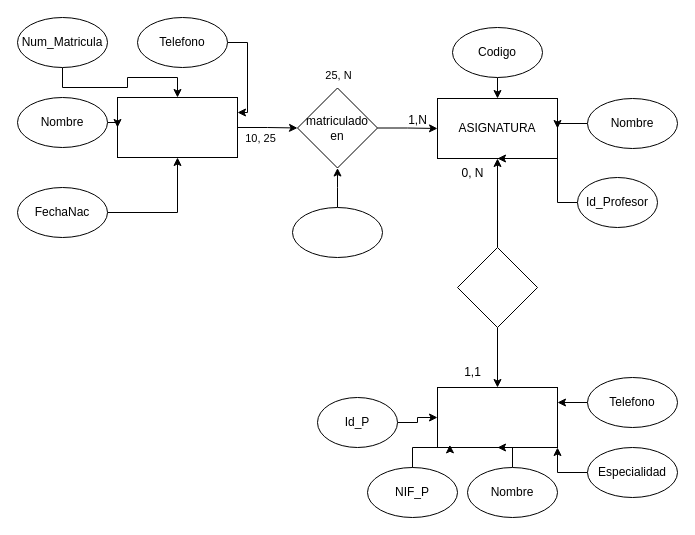
This 695x535 diagram has some shape labels left out. Here are the shapes that lost their labels. From the top down, the centre of each, then its label:
At [177,127]: "ALUMNO".
At [337,232]: "Curso".
At [497,287]: "imparte".
At [497,417]: "PROFESOR".
